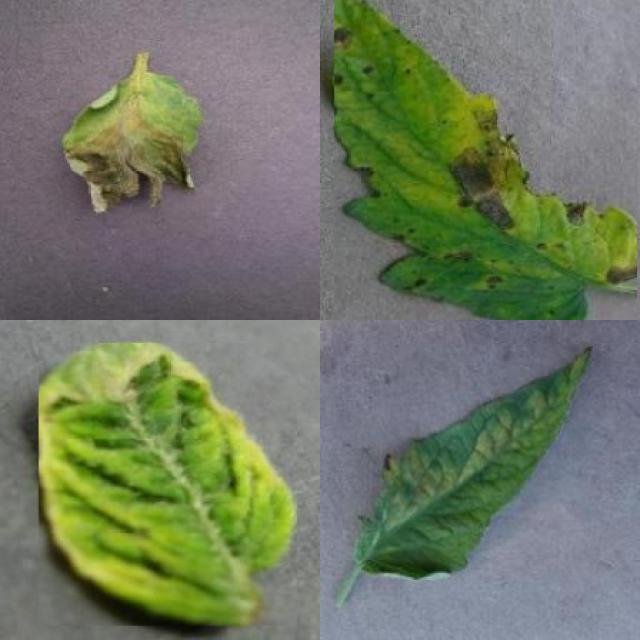Early Blight: (335, 0, 638, 320)
Late Blight: (62, 67, 199, 212)
Leaf Mold: (355, 345, 591, 585)
Yellow Leaf Curl Virus: (39, 343, 297, 626)
